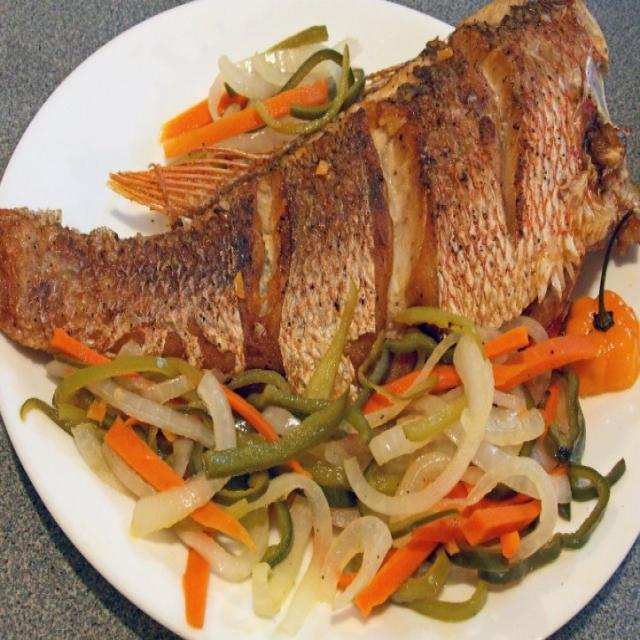FISH FRY: (0, 0, 639, 388)
